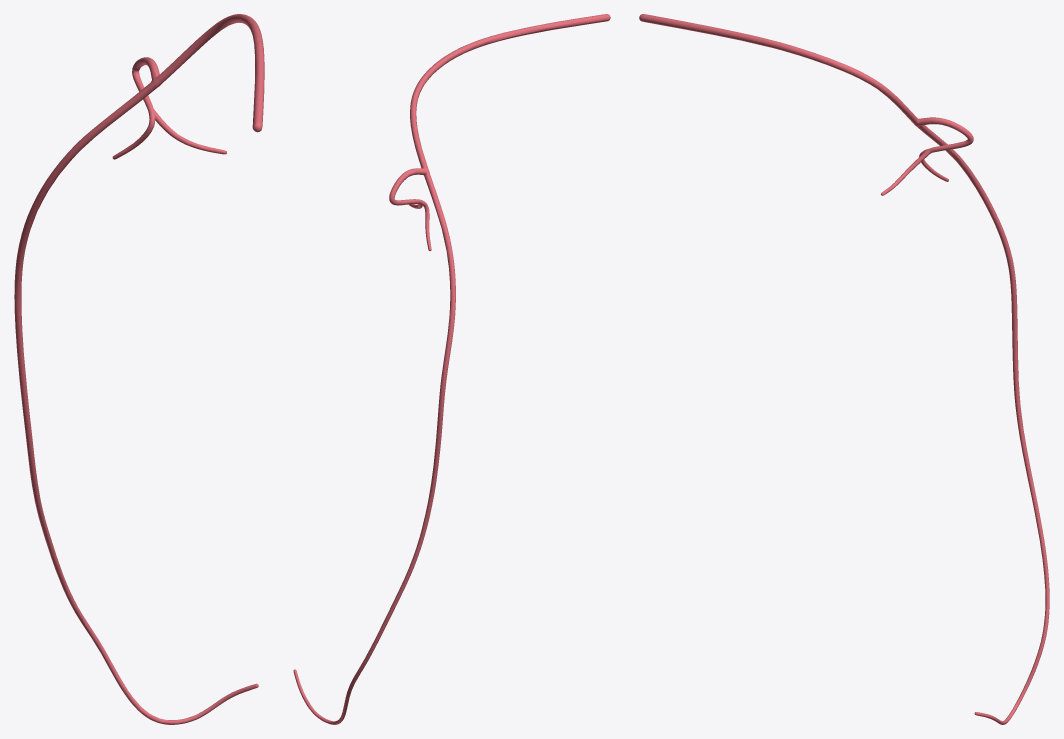
The model's file is fma10552_fj2232.glb.
3 renders of one model, left to right at view 1: azimuth 30°, elevation 25°; view 2: azimuth 150°, elevation 25°; view 3: azimuth 270°, elevation 25°, orthographic. The views are drawn at different scales.
Visible parts, largest first — view 1: FMA10552_FJ2232; view 2: FMA10552_FJ2232; view 3: FMA10552_FJ2232.
Boxes of the visible parts, x1,y1,x2,y2 form: FMA10552_FJ2232: (14, 14, 264, 724); FMA10552_FJ2232: (293, 14, 610, 724); FMA10552_FJ2232: (639, 14, 1049, 724).
Bounding box in the file's own units: 0.0512 × 0.1781 × 0.1011.
